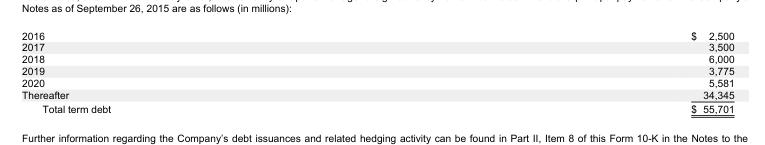table: (21, 29, 733, 113)
table column: (21, 29, 400, 113), (400, 29, 733, 113)
table row: (21, 88, 733, 101), (21, 40, 733, 52), (21, 52, 733, 64), (21, 64, 733, 76), (21, 76, 733, 88), (21, 101, 733, 113), (21, 29, 733, 40)
